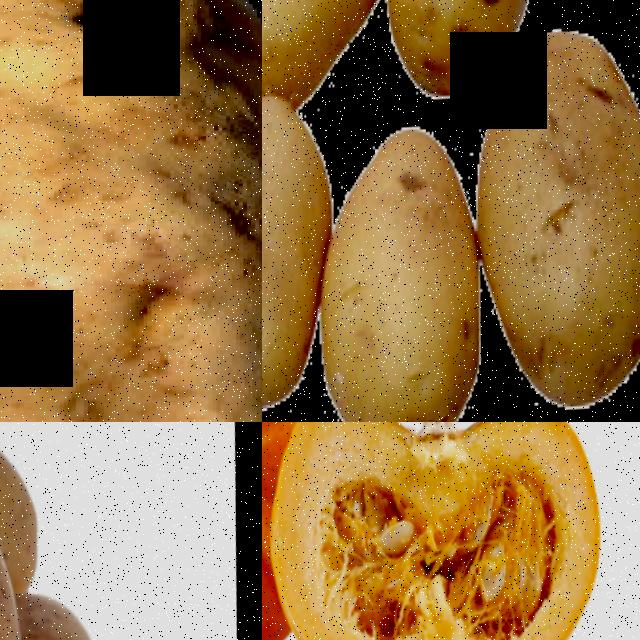potato: (0, 0, 262, 422), (459, 0, 640, 411), (296, 103, 516, 422), (262, 77, 355, 421), (368, 0, 560, 93), (262, 0, 415, 109)
pumpkin: (262, 422, 629, 640)
